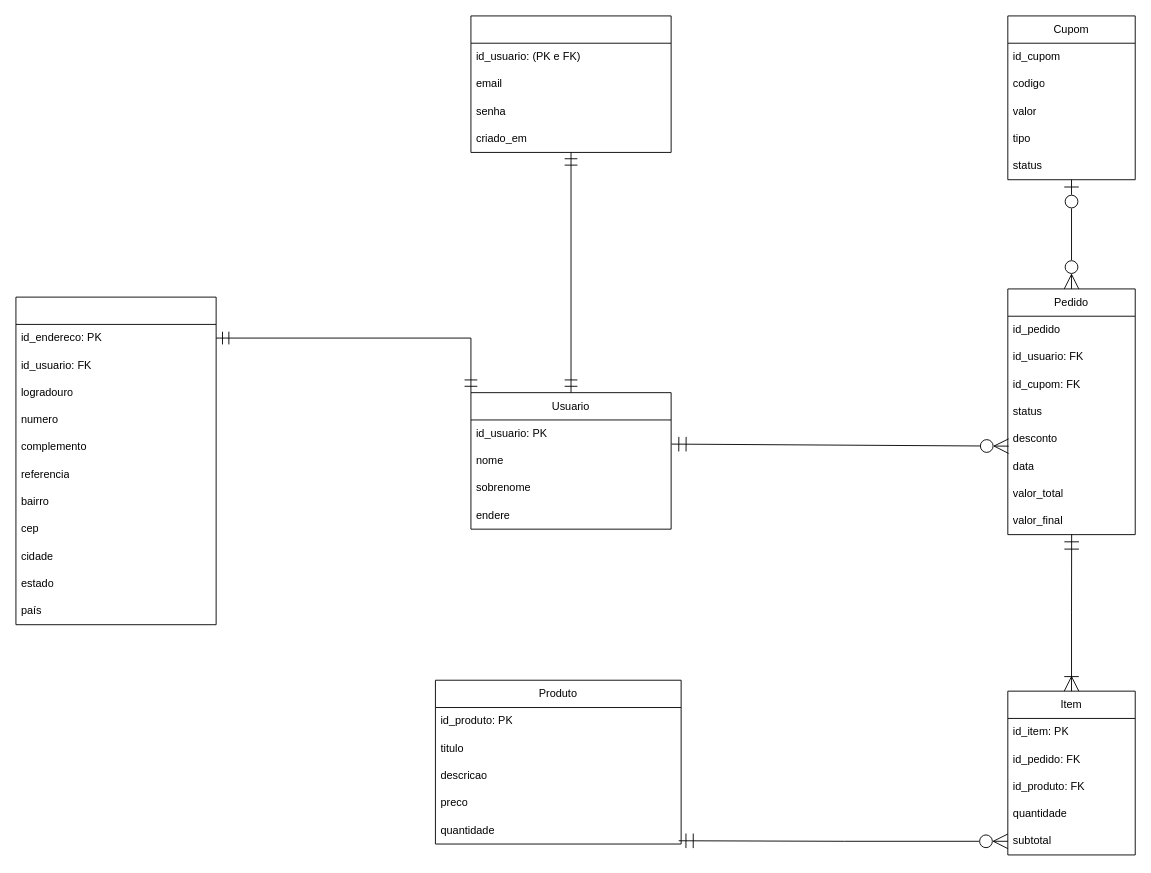
The diagram is 1151 pixels wide and 873 high, and some of its shapes have lost their labels. The box of each missing label's shape, as (x1, y1, x2, y2) in pixels:
Credencial: (470, 15, 671, 152)
Endereço: (15, 296, 216, 625)
